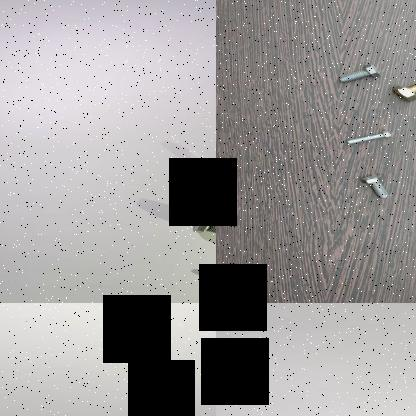Bolts: (335, 61, 388, 85), (338, 127, 396, 148), (357, 172, 395, 202), (187, 154, 216, 188), (388, 73, 416, 105), (188, 215, 216, 239)
